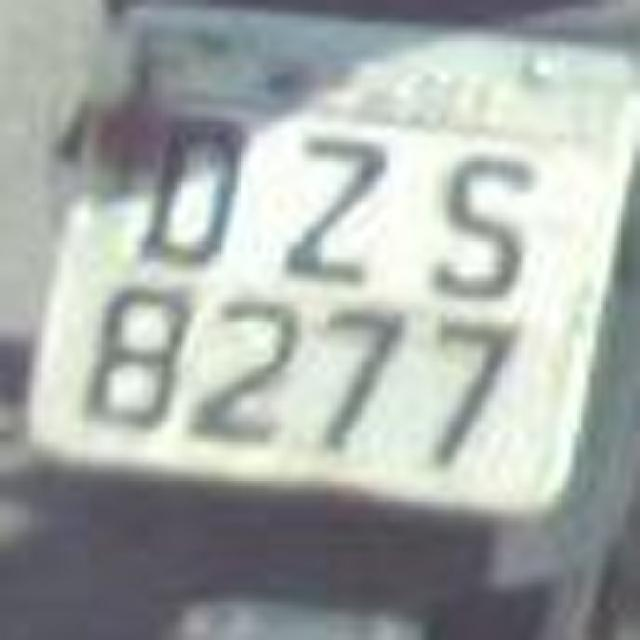2: (171, 276, 324, 472)
7: (400, 280, 540, 472), (292, 280, 416, 460)
B: (72, 268, 208, 460)
O: (120, 112, 245, 292)
S: (395, 124, 540, 291)
Z: (248, 120, 392, 285)
